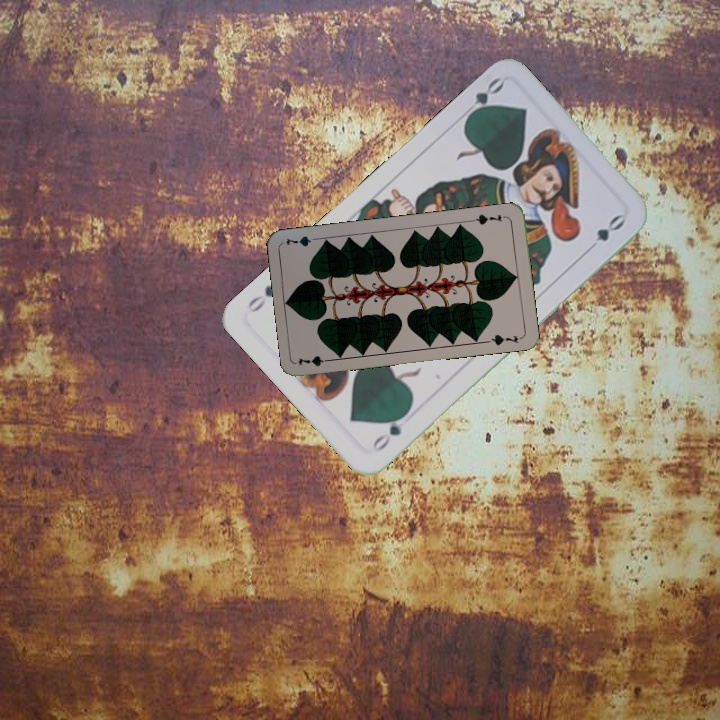G7: (468, 210, 509, 227), (295, 352, 336, 369)
GO: (461, 73, 506, 124), (368, 407, 411, 455)
